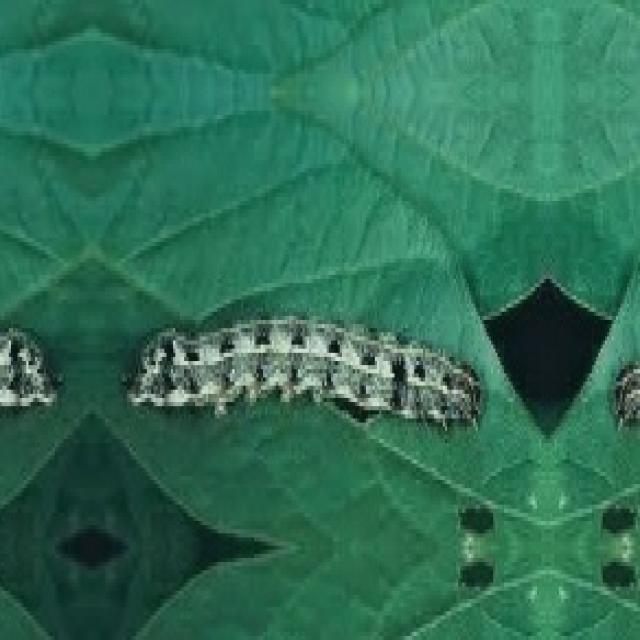armyworm: (123, 312, 482, 431), (0, 330, 63, 427), (613, 361, 640, 426)
